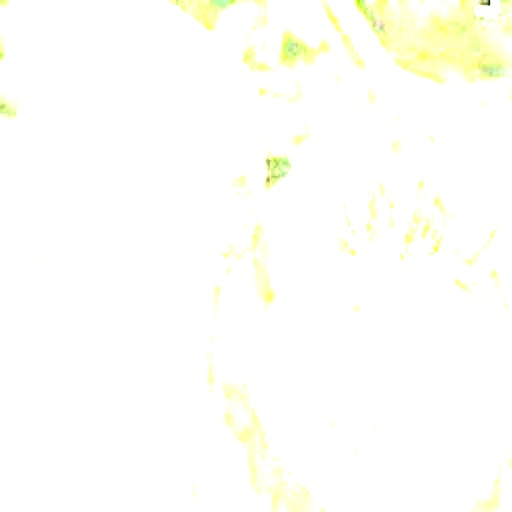Powdery Mildew Fruit: (15, 0, 265, 327), (248, 255, 511, 511)
